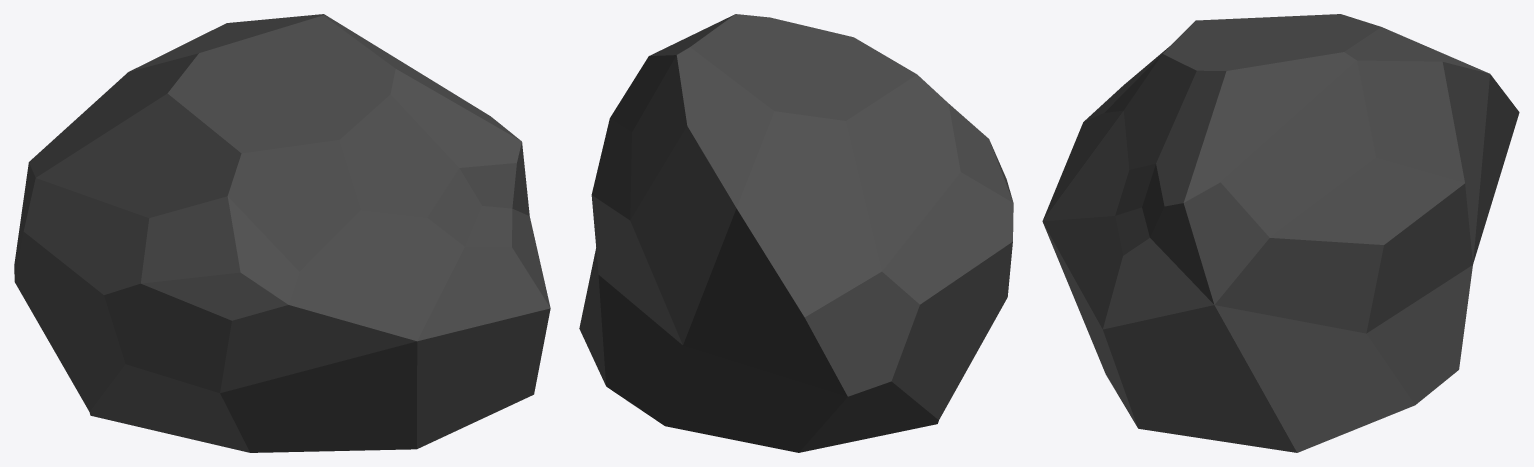
The model's file is Rock_04.fbx.
The picture shows the model from 3 angles, left to right: view 1: azimuth 30°, elevation 25°; view 2: azimuth 150°, elevation 25°; view 3: azimuth 270°, elevation 25°; orthographic projection. The views are drawn at different scales.
Parts seen in each view (by area): view 1: Rock_04; view 2: Rock_04; view 3: Rock_04.
Boxes of the visible parts, box(x1,y1,x2,y2) form: Rock_04: box(14, 14, 550, 452); Rock_04: box(579, 14, 1013, 452); Rock_04: box(1042, 14, 1519, 452).
Bounding box in the file's own units: 85.11 × 69.92 × 85.6.
